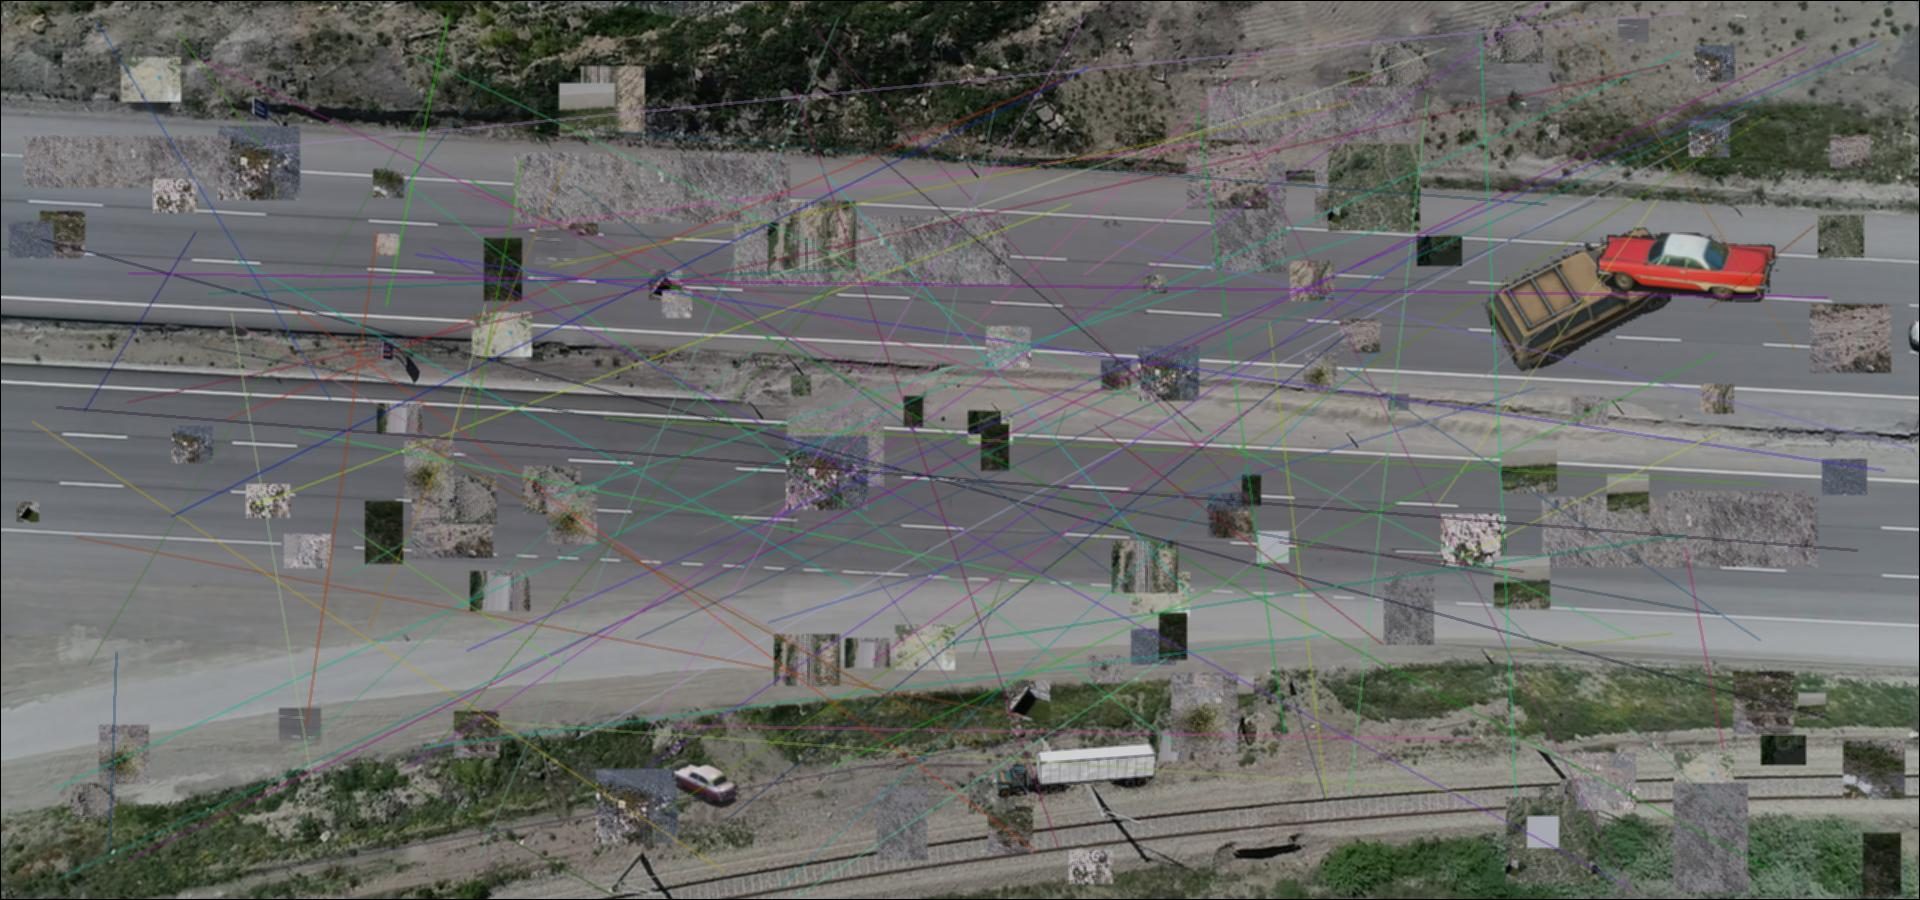arac: (1480, 220, 1684, 371), (1596, 233, 1780, 302), (997, 740, 1156, 798), (672, 762, 741, 808)
